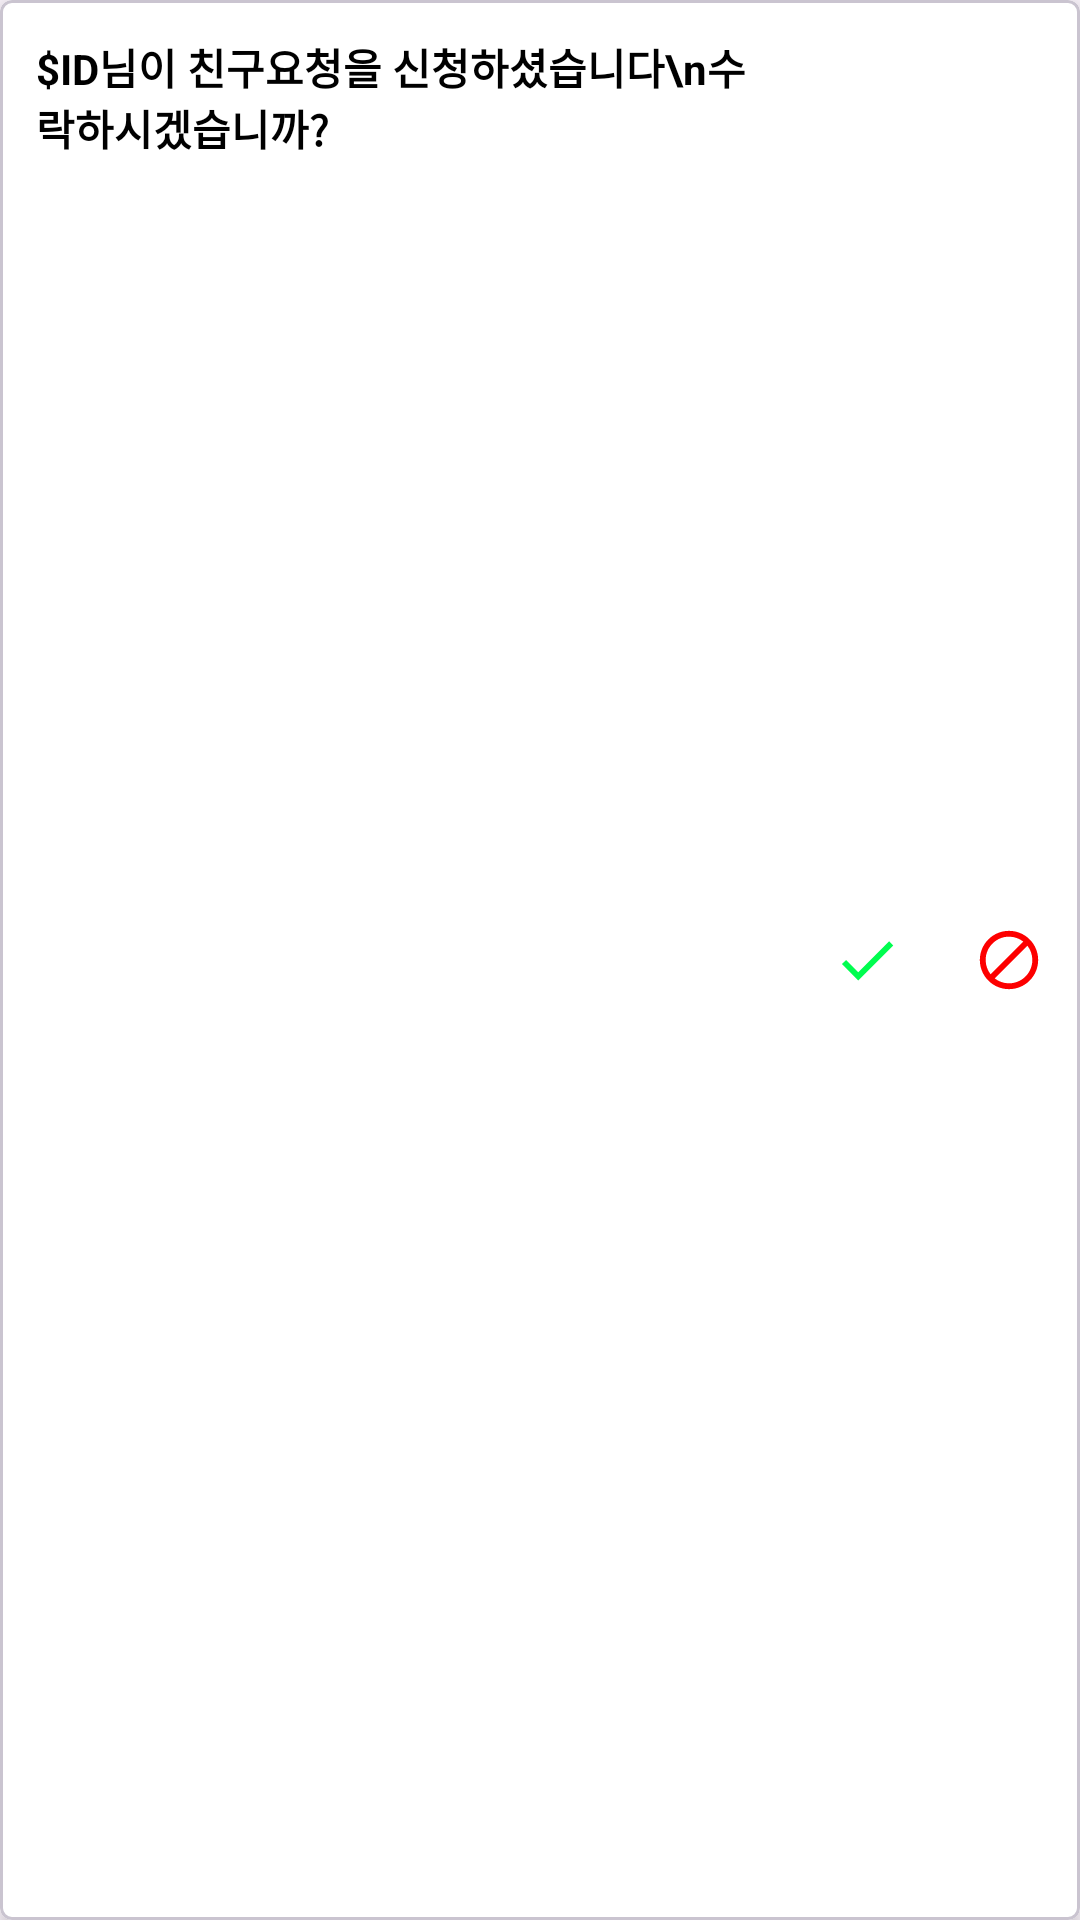

Screen size 1080*1920. Icon name, then its box in pixels as bbox(x1, y1, x2, y2):
block: bbox(979, 930, 1039, 990)
check: bbox(842, 941, 893, 981)
